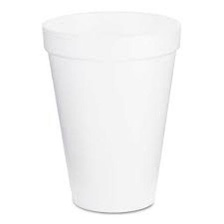paper_cup: (35, 4, 186, 218)
